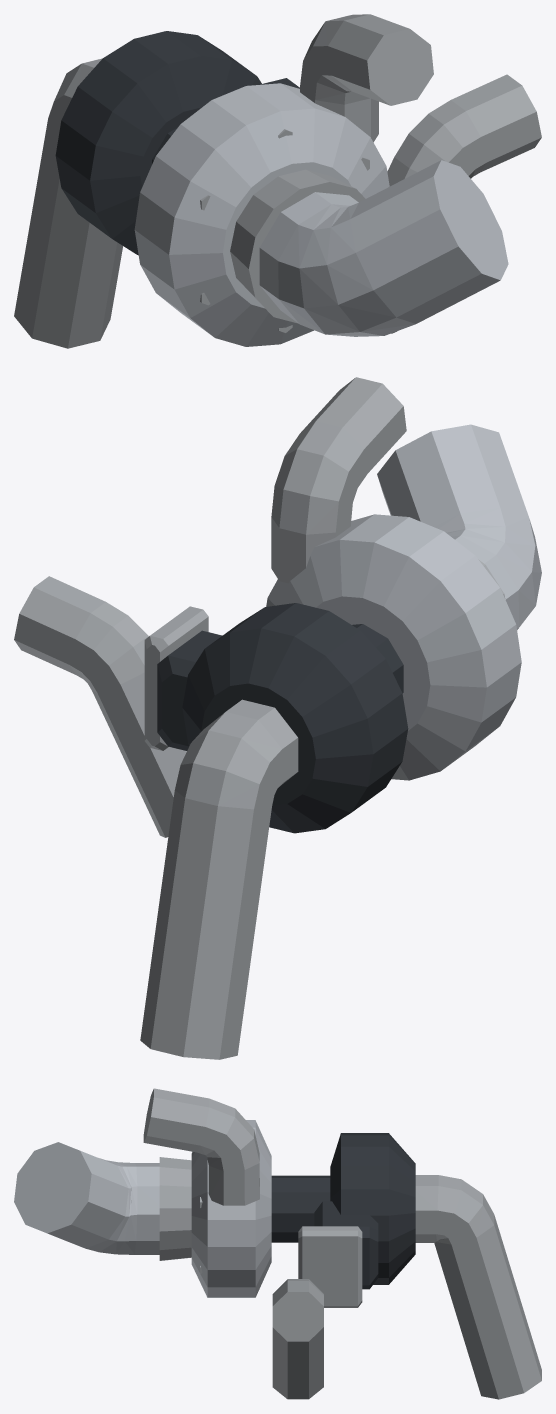
File: brute_500.glb
The picture shows the model from 3 angles, top to bottom: view 1: azimuth 30°, elevation 25°; view 2: azimuth 150°, elevation 25°; view 3: azimuth 270°, elevation 25°; orthographic projection. The views are drawn at different scales.
Parts seen in each view (by area): view 1: model; view 2: model; view 3: model.
Boxes of the visible parts, bbox=[...] form: model: bbox=[14, 14, 541, 348]; model: bbox=[14, 377, 541, 1059]; model: bbox=[14, 1088, 541, 1399].
Bounding box in the file's own units: 0.3191 × 0.3354 × 0.4949.
Materials: 2 (1 with a texture image).
